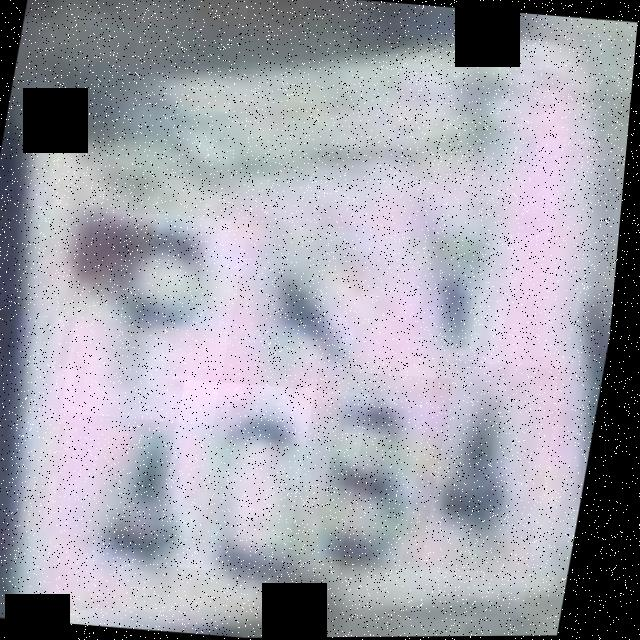0: (161, 378, 378, 582)
4: (410, 359, 571, 577)
5: (295, 368, 461, 572)
N: (217, 212, 397, 398)
P: (66, 208, 253, 426)
